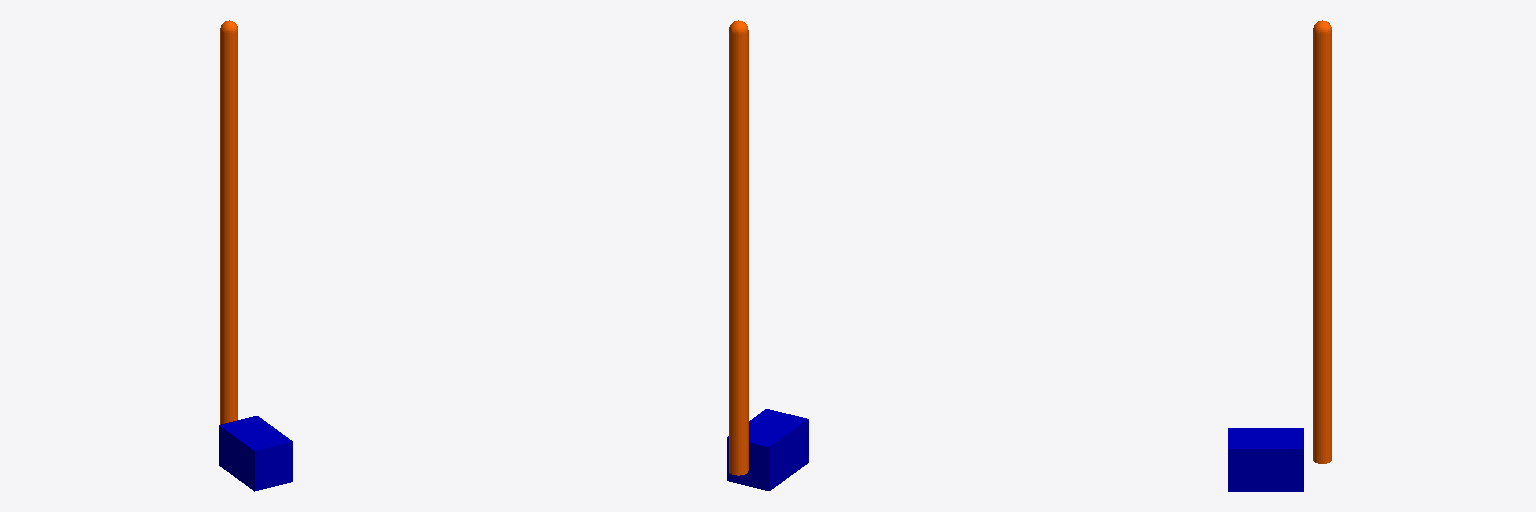
URDF robot description (1dof):
<?xml version="1.0" encoding="utf-8"?>
<robot name="1dof">
  <material name="black">
    <color rgba="0.0 0.0 0.0 1.0"/>
  </material>
  <material name="blue">
    <color rgba="0.0 0.0 0.8 1.0"/>
  </material>
  <material name="green">
    <color rgba="0.0 0.8 0.0 1.0"/>
  </material>
  <material name="grey">
    <color rgba="0.2 0.2 0.2 1.0"/>
  </material>
  <material name="silver">
    <color rgba="0.913725490196 0.913725490196 0.847058823529 1.0"/>
  </material>
  <material name="orange">
    <color rgba="1.0 0.423529411765 0.0392156862745 1.0"/>
  </material>
  <material name="brown">
    <color rgba="0.870588235294 0.811764705882 0.764705882353 1.0"/>
  </material>
  <material name="red">
    <color rgba="0.8 0.0 0.0 1.0"/>
  </material>
  <material name="white">
    <color rgba="1.0 1.0 1.0 1.0"/>
  </material>

  <link name="world"/>

  <!-- <link name="base"/> -->

  <link name="trunk">
	 <inertial>
     <origin xyz="0 0 0" rpy="0 0 0"/> 
     <mass value="5"/>
     <inertia ixx="0.005"  ixy="0"  ixz="0" iyy="0.005" iyz="0" izz="0.005" />
    </inertial>
    <visual>
     <origin xyz="0 0 0" rpy="0 0 0" />
     <geometry>
       <box size="0.050 0.080 0.050"/>
     </geometry>
     <material name="blue"/>
    </visual>
    <collision>
     <origin xyz="0 0 0" rpy="0 0 0"/>
     <geometry>
       <box size="0.050 0.080 0.050"/>
     </geometry>
    </collision> 
  </link>


  <link name="link1">
	  <inertial>
     <origin xyz="0 0 0.125" rpy="0 0 0"/>
     <mass value="1"/>
     <inertia ixx="0.003"  ixy="0"  ixz="0" iyy="0.003" iyz="0" izz="0.003" />
    </inertial>
	  <visual>
     <origin xyz="0 0 0.125" rpy="0 0 0" />
     <geometry>
       <cylinder radius="0.01" length="0.250"/>
     </geometry>
     <material name="orange"/>
    </visual>
	  <collision>
     <origin xyz="0 0 0.125" rpy="0 0 0"/>
     <geometry>
       <cylinder radius="0.01" length="0.250"/>
     </geometry>
    </collision>
  </link>

  
  <link name="link2">
	  <inertial>
     <origin xyz="0 0 0.125" rpy="0 0 0"/>
     <mass value="1"/>
     <inertia ixx="0.003"  ixy="0"  ixz="0" iyy="0.003" iyz="0" izz="0.003" />
    </inertial>
	  <visual>
     <origin xyz="0 0 0.125" rpy="0 0 0" />
     <geometry>
       <cylinder radius="0.01" length="0.250"/>
     </geometry>
     <material name="orange"/>
    </visual>
	  <collision>
     <origin xyz="0 0 0.125" rpy="0 0 0"/>
     <geometry>
       <cylinder radius="0.01" length="0.250"/>
     </geometry>
    </collision>
  </link>

  <link name="link3">
	  <inertial>
     <origin xyz="0 0 0.005" rpy="0 0 0"/>
     <mass value="1"/>
     <inertia ixx="1e-6"  ixy="0"  ixz="0" iyy="1e-6" iyz="0" izz="1e-6" />
    </inertial>
	  <visual>
     <origin xyz="0 0 0" rpy="0 0 0" />
     <geometry>
       <sphere radius="0.01"/>
     </geometry>
     <material name="orange"/>
    </visual>
	  <collision>
     <origin xyz="0 0 0" rpy="0 0 0"/>
     <geometry>
       <sphere radius="0.01"/>
     </geometry>
    </collision>
  </link>
  

  <!-- Joints -->
  <joint name="Joint0" type="fixed">
    <parent link="world"/>
    <child link="trunk"/>
    <origin xyz="0 0 0.15" rpy="0 0 0" />
  </joint>

  <joint name="Joint1" type="revolute">
    <parent link="trunk"/>
    <child link="link1"/>
    <axis xyz="0 1 0"/>
    <origin xyz="0 0.06 0.0" rpy="0 0 0" />
  </joint>

  <joint name="Joint2" type="revolute">
    <parent link="link1"/>
    <child link="link2"/>
    <axis xyz="1 0 0"/>
    <origin xyz="0 0 0.250" rpy="0 0 0" />
  </joint>

  <joint name="Joint3" type="fixed">
    <parent link="link2"/>
    <child link="link3"/>
    <origin xyz="0 0 0.250" rpy="0 0 0" />
  </joint>

</robot>

--- Facts derived from the render (not from the file) ---
Views: 3 orthographic renders of the robot side by side, from view 1: azimuth 30°, elevation 25°; view 2: azimuth 150°, elevation 25°; view 3: azimuth 270°, elevation 25°.
Model 1dof with 5 links and 4 joints (2 revolute, 2 fixed), rooted at world, posed every joint at zero.
Visible links, largest first — view 1: trunk, link2, link1; view 2: link2, link1, trunk; view 3: trunk, link1, link2.
Link boxes in pixels (x1,y1,x2,y2): trunk: (219, 416, 292, 491); link2: (220, 30, 237, 234); link1: (220, 232, 237, 424); link2: (729, 30, 748, 254); link1: (729, 251, 748, 475); trunk: (727, 409, 808, 490); trunk: (1228, 428, 1303, 491); link1: (1313, 246, 1331, 463); link2: (1313, 31, 1331, 248).
Size in the robot's own frame: 0.05 by 0.11 by 0.535 metres.
Geometry: primitives only (box / cylinder / sphere), no mesh files.